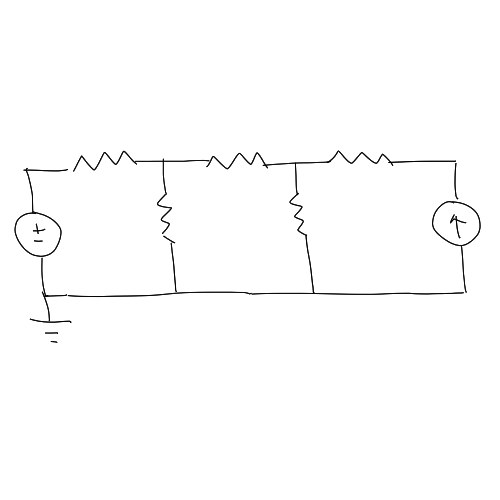dccs: (427, 198, 484, 250)
dcvs: (12, 210, 66, 260)
gnd: (27, 313, 81, 347)
res: (63, 145, 146, 176), (199, 147, 278, 175), (321, 147, 399, 172), (156, 186, 181, 249), (289, 183, 314, 244)
